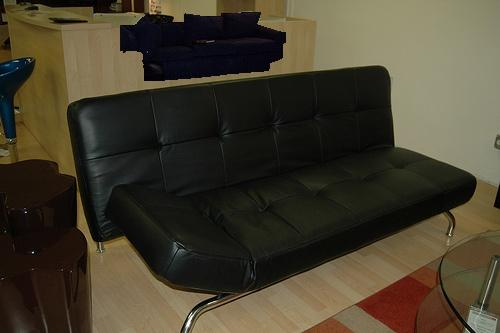tampered: (121, 13, 286, 81)
